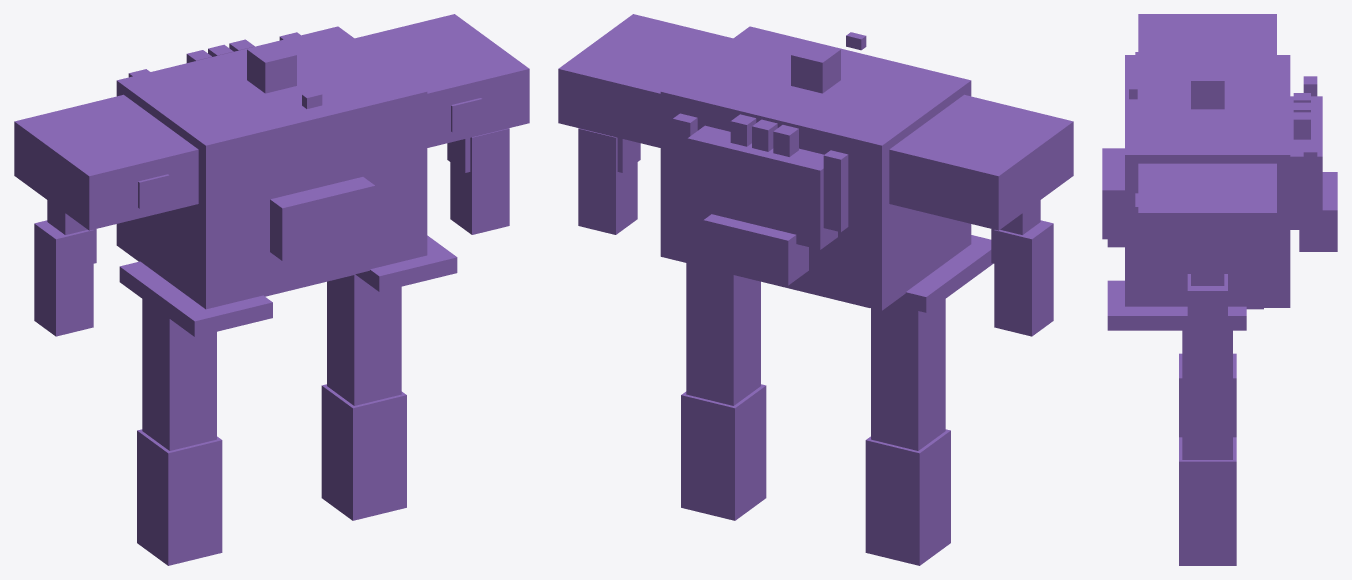
The model's file is mechfall_tetrapod_ac.obj.
3 views of the same model, side by side, from view 1: azimuth 30°, elevation 25°; view 2: azimuth 150°, elevation 25°; view 3: azimuth 270°, elevation 25° (orthographic). The views are drawn at different scales.
Parts seen in each view (by area): view 1: mechfall_tetrapod_ac; view 2: mechfall_tetrapod_ac; view 3: mechfall_tetrapod_ac.
Boxes of the visible parts, box(x1,y1,x2,y2) form: mechfall_tetrapod_ac: box(14, 14, 529, 565); mechfall_tetrapod_ac: box(558, 14, 1073, 565); mechfall_tetrapod_ac: box(1102, 14, 1337, 565).
Size of the model in its own units: 7.25 by 7.22 by 3.52.
